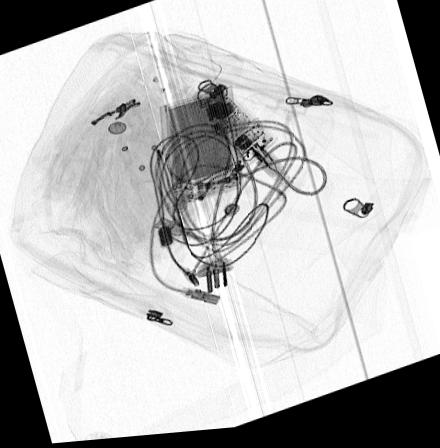Powerbank: (159, 91, 242, 211)
